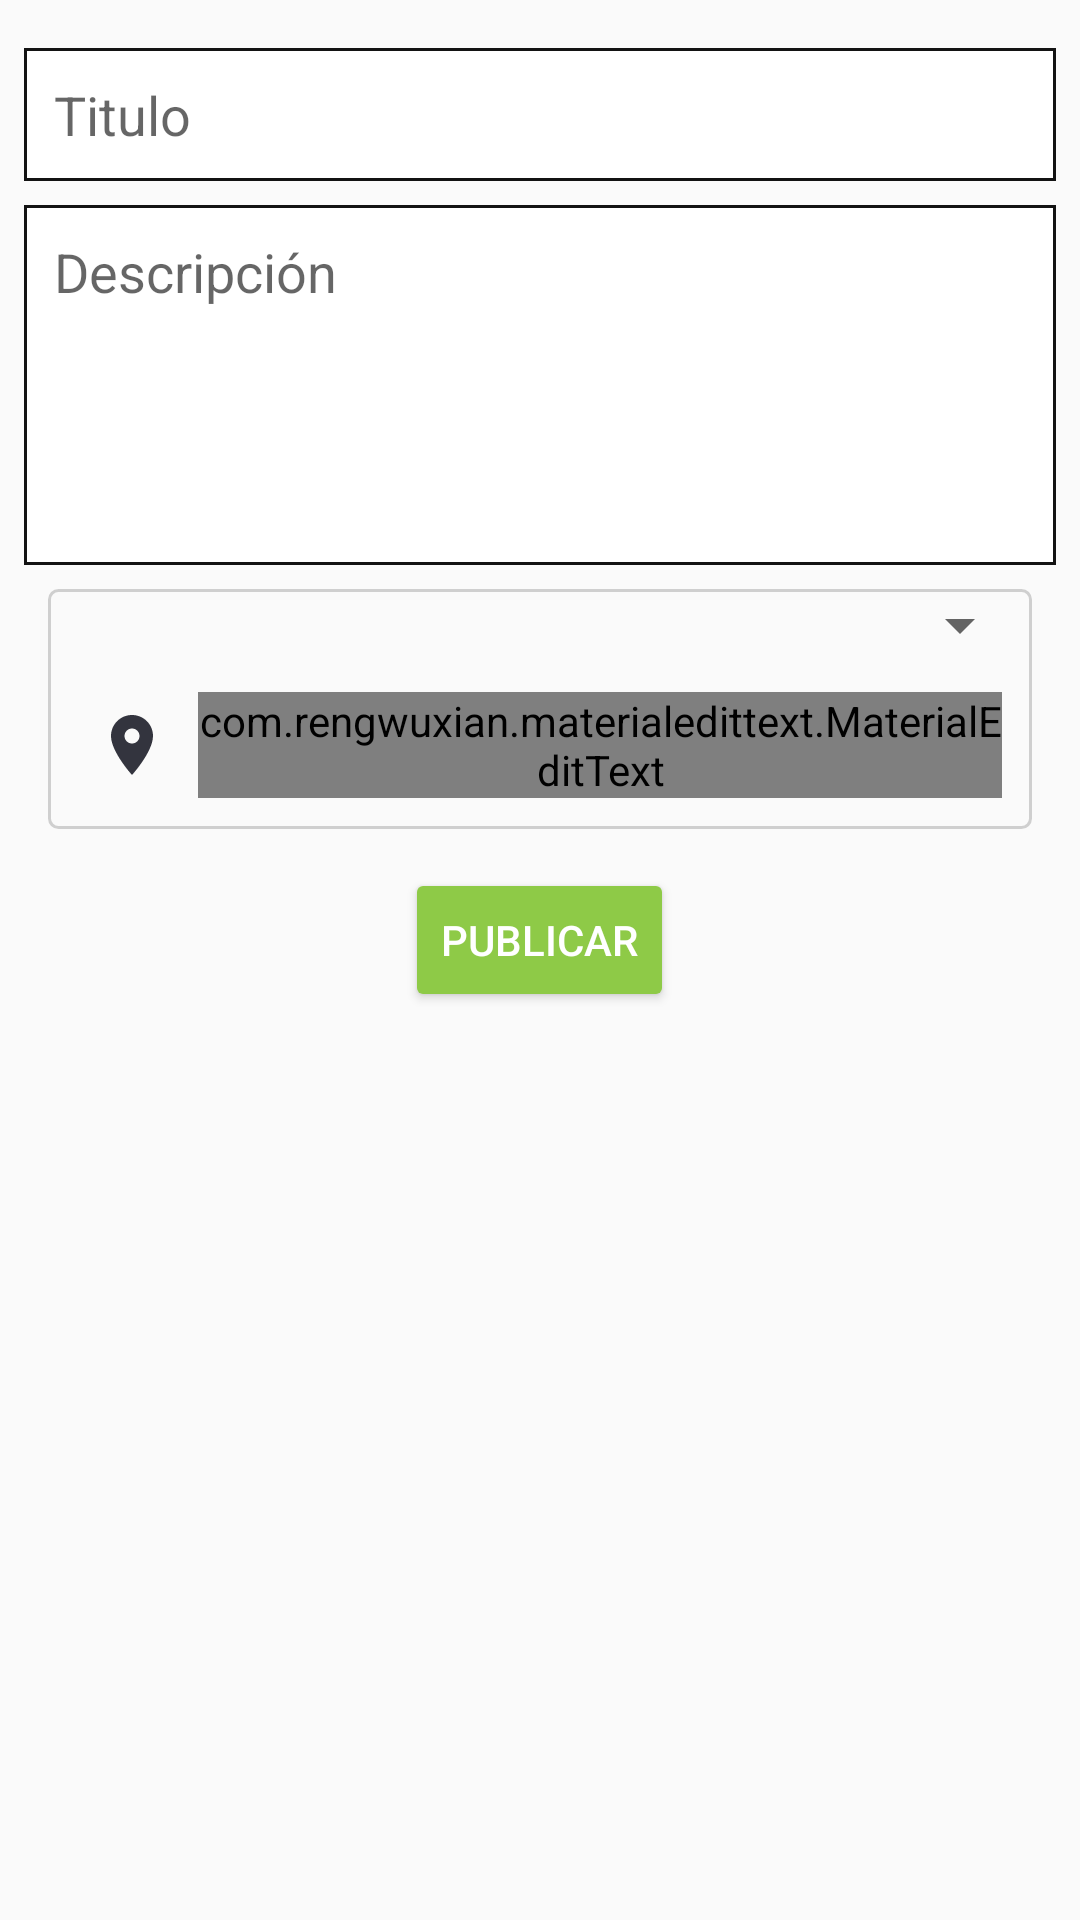

Where icons sit on this 1080x1920 app screen, as detection(x1, y1, x2, y2):
ubicacion: detection(111, 715, 153, 775)
